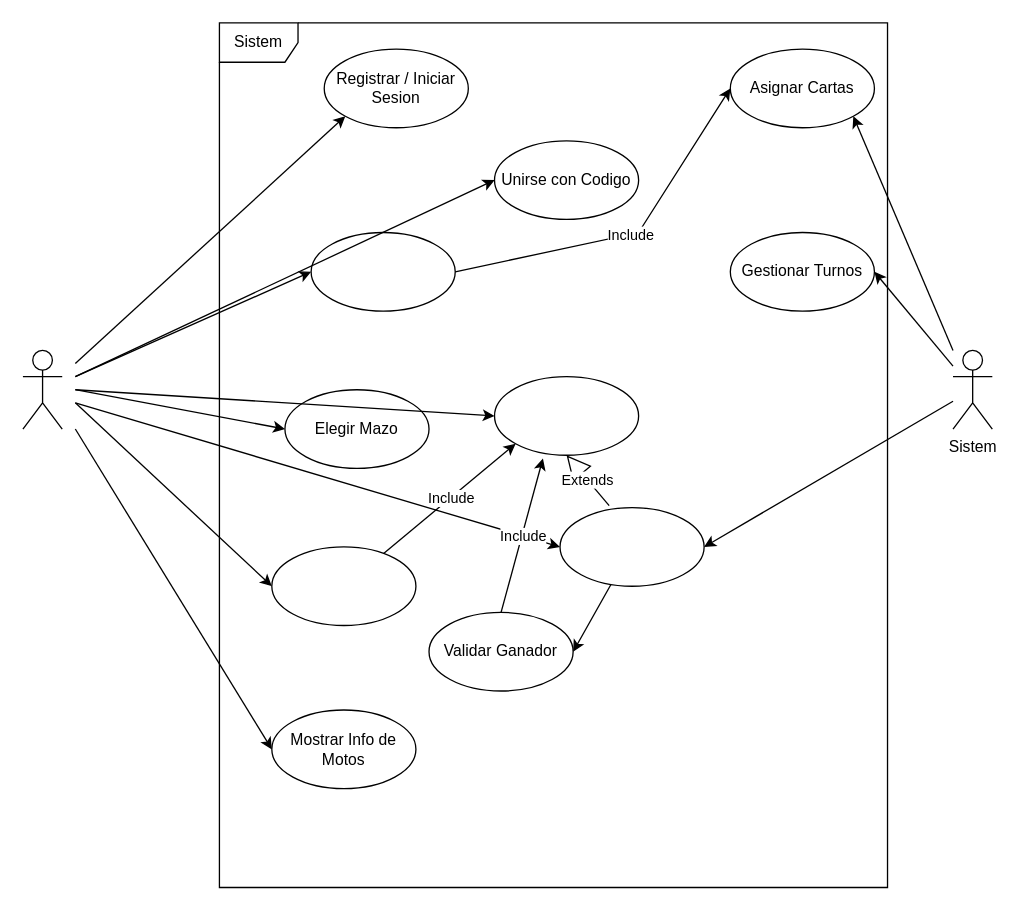
Some shapes in this 1019 by 910 pixel diagram are drawn without their labels. The centre of each missing label's shape, as x and y in pixels:
Actor: the point at 42,389
Comparar Estadisticas: the point at 343,586
Crear Sala: the point at 382,271
Jugar Partida: the point at 566,415
Usar Cartas Comodin: the point at 631,546
